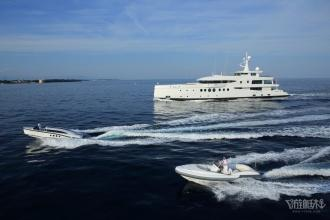otherboat: (177, 154, 258, 179), (24, 117, 81, 142)
yacht: (151, 54, 291, 102)
